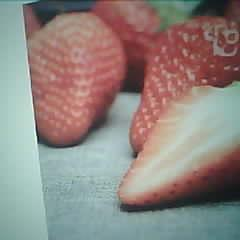straw-ripe: (27, 12, 128, 146)
